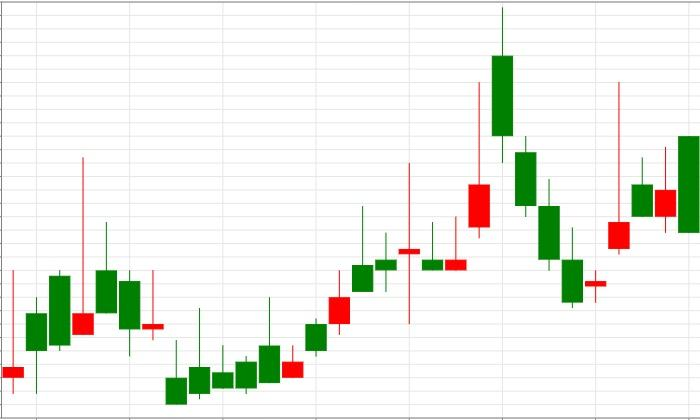three_black_crows_fall: (422, 8, 583, 308)
